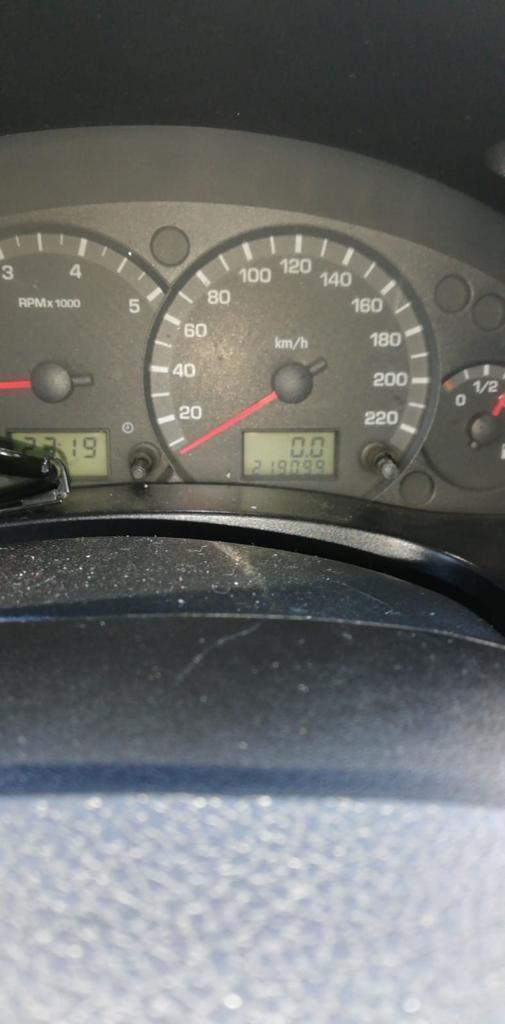,: (304, 454, 309, 458)
0: (290, 436, 304, 457), (310, 436, 323, 457), (289, 459, 299, 475)
1: (268, 459, 275, 475)
2: (251, 459, 262, 475)
9: (314, 459, 325, 474), (302, 459, 312, 474), (277, 459, 286, 475)
odometer: (240, 427, 339, 481)
